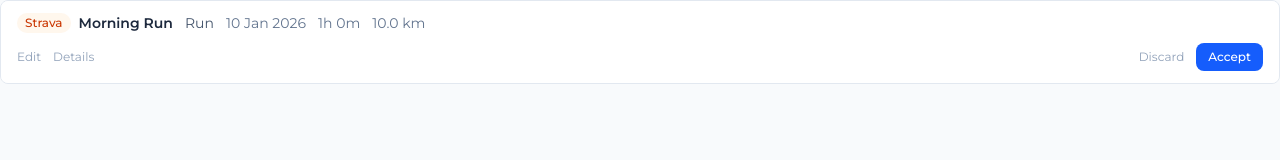
ImportRow › shows conflict warning when accept returns 409
Click the button "Accept" at (1230, 57), box [1196, 43, 1263, 71]
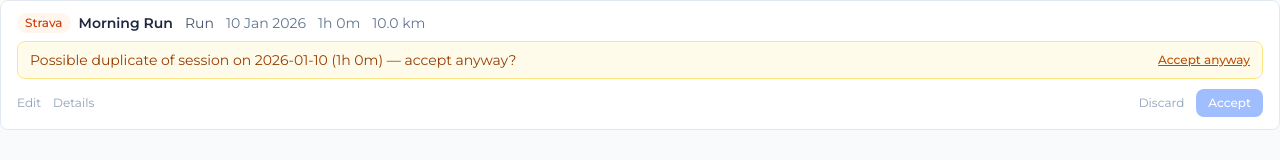
Expected: the text "Possible duplicate" is shown, [30, 51, 255, 69]
Expected: the button "Accept anyway" is shown, [1158, 52, 1250, 68]
